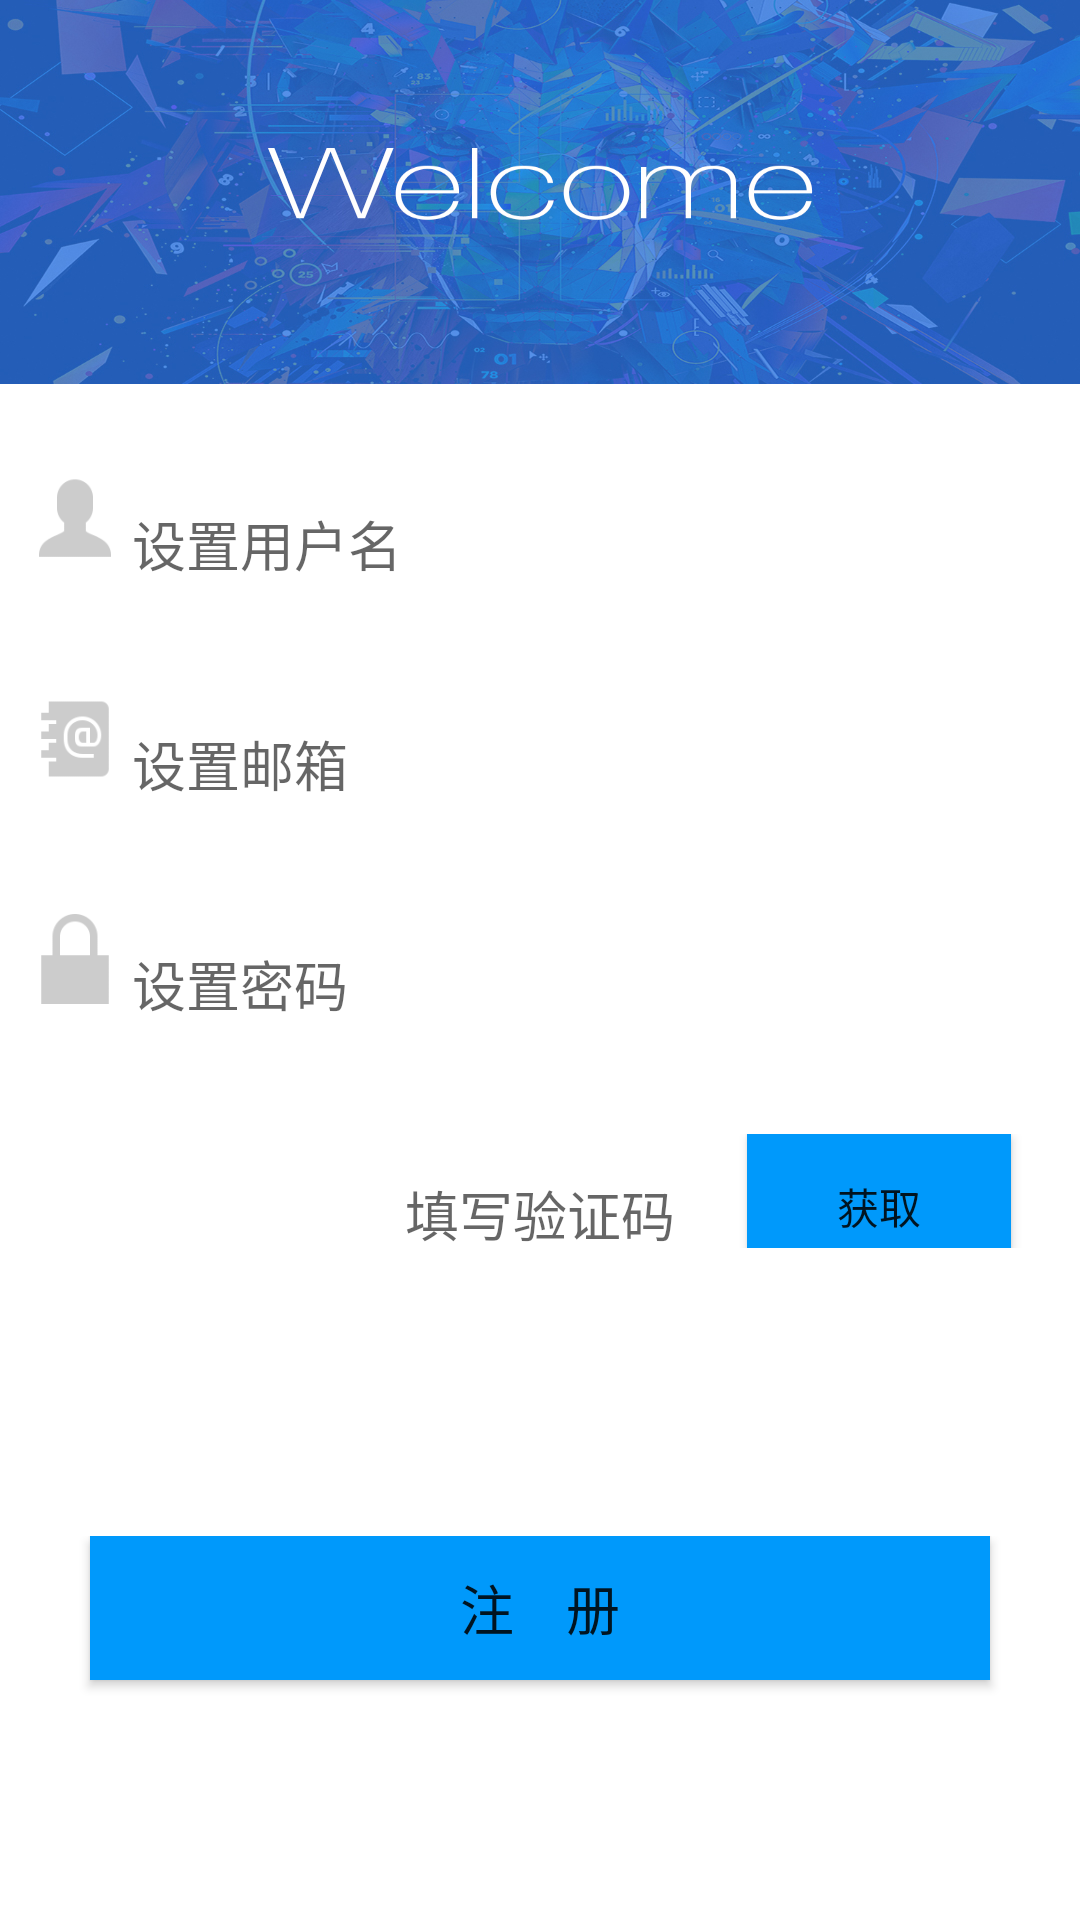

Point at icon controls on the screen. Image size 1080×1920, points as point (x, y).
lock: point (75, 959)
mail: point (75, 739)
user: point (75, 518)
